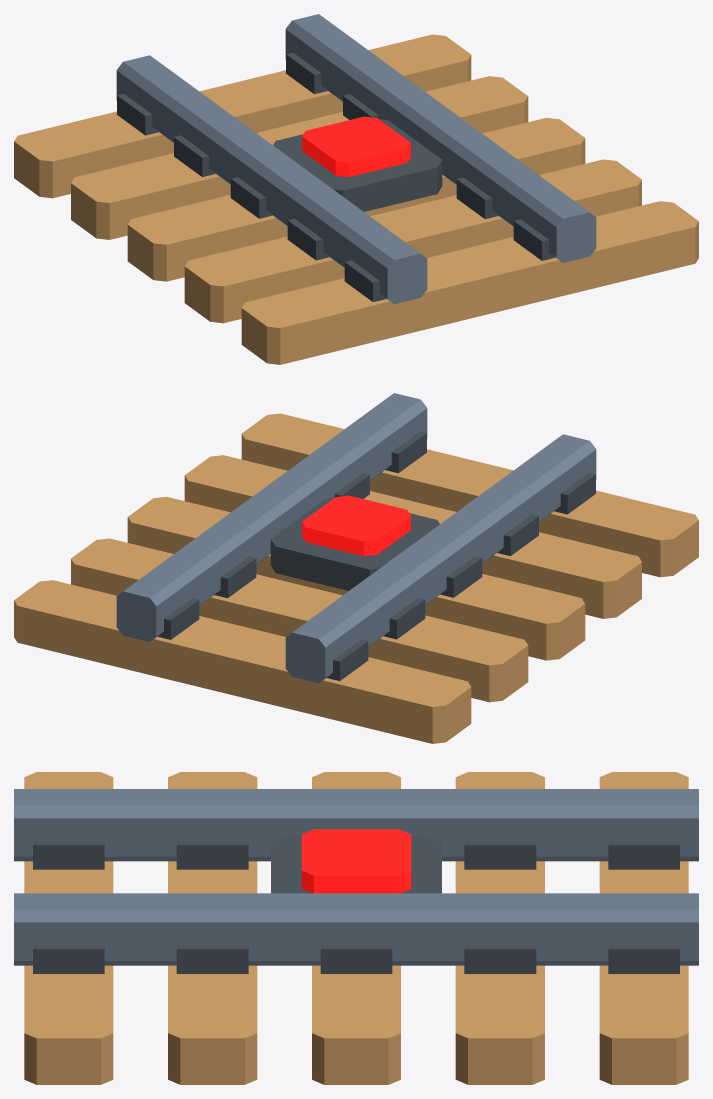
File: minecart_rail_stop.glb
3 views of the same model, one above another, from view 1: azimuth 30°, elevation 25°; view 2: azimuth 150°, elevation 25°; view 3: azimuth 270°, elevation 25° (orthographic). The views are drawn at different scales.
Visible parts, largest first — view 1: MinecartRailStop; view 2: MinecartRailStop; view 3: MinecartRailStop.
Part boxes in pixels (x1,y1,x2,y2): MinecartRailStop: (14,14,698,364); MinecartRailStop: (14,393,698,743); MinecartRailStop: (14,772,698,1084).
Bounding box in the file's own units: 0.92 × 0.165 × 1.
